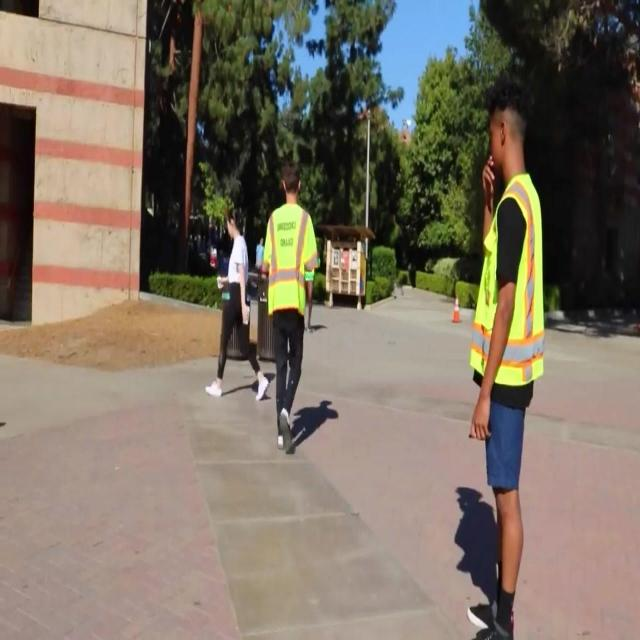Reflective-Jacket: (462, 170, 554, 405), (261, 200, 321, 321)
